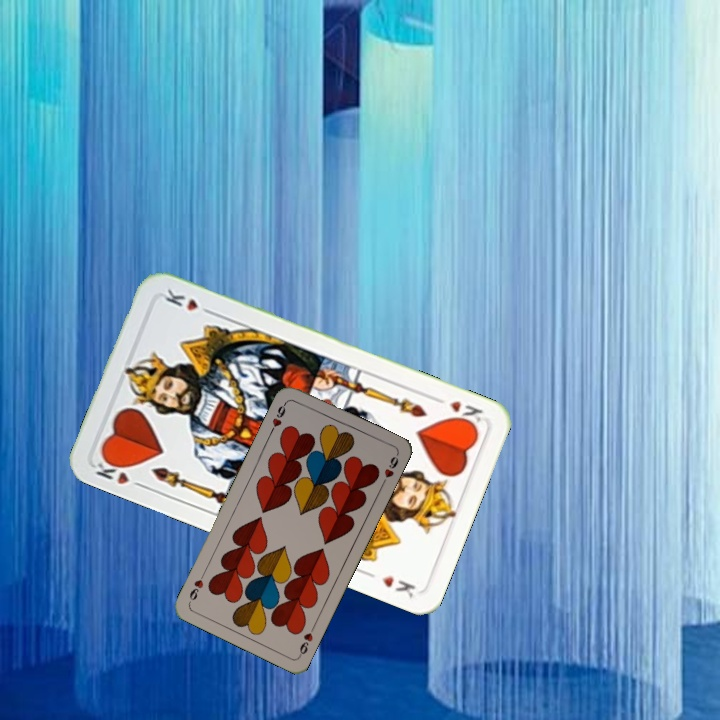H9: (266, 397, 290, 435), (295, 621, 318, 659)
HK: (430, 392, 486, 429), (91, 451, 134, 487)
